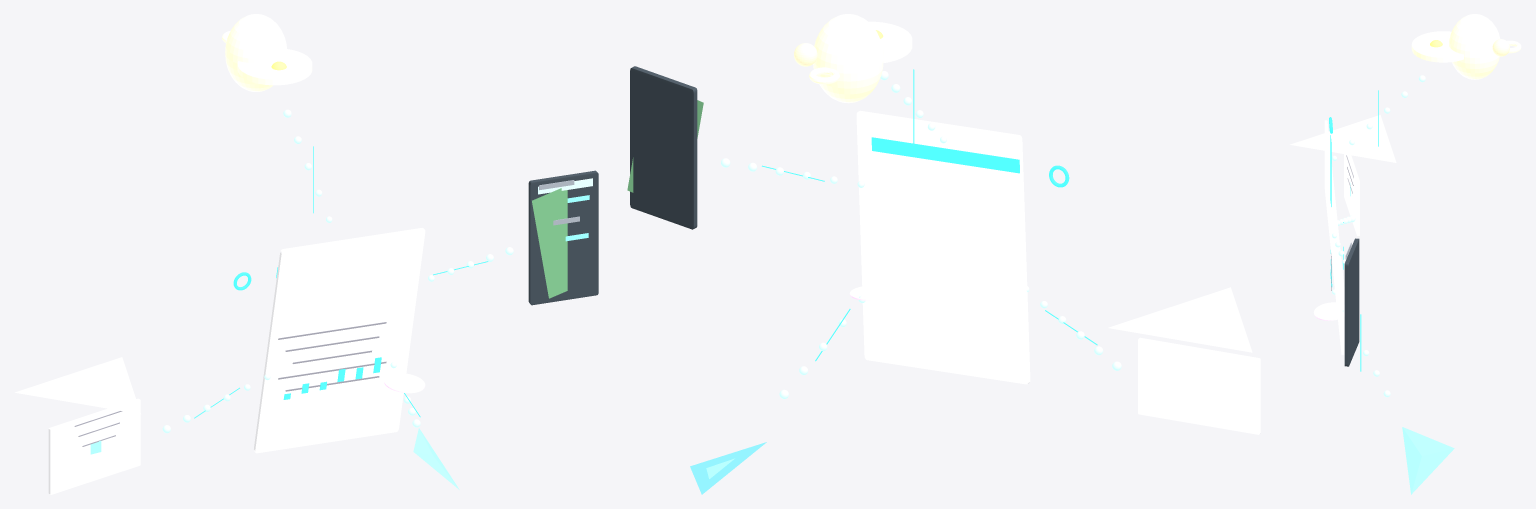
Rendered from data-report.glb.
3 views of the same model, side by side, from view 1: azimuth 30°, elevation 25°; view 2: azimuth 150°, elevation 25°; view 3: azimuth 270°, elevation 25° (orthographic). The views are drawn at different scales.
Visible parts, largest first — view 1: Report, Envelope, Phone, EnvFlap, BellBody, PhoneScreen, BellBase, TelegramPlane; view 2: Report, Phone, Envelope, BellBody, EnvFlap, ReportHeader, TelegramPlane, BellBase; view 3: BellBody, EnvFlap, Report, Phone, TelegramPlane, BellBase, Envelope, MiniPie.
Boxes of the visible parts, x1,y1,x2,y2 form: Report: [253, 228, 425, 453]; Envelope: [48, 398, 140, 494]; Phone: [528, 170, 598, 305]; EnvFlap: [15, 357, 140, 414]; BellBody: [225, 14, 287, 91]; PhoneScreen: [532, 188, 567, 298]; BellBase: [237, 49, 312, 85]; TelegramPlane: [413, 428, 459, 489]; Report: [856, 110, 1030, 384]; Phone: [630, 66, 697, 229]; Envelope: [1138, 337, 1260, 434]; BellBody: [813, 14, 883, 103]; EnvFlap: [1108, 287, 1252, 352]; ReportHeader: [871, 137, 1019, 173]; TelegramPlane: [690, 442, 766, 494]; BellBase: [868, 21, 912, 62]; BellBody: [1449, 14, 1500, 79]; EnvFlap: [1290, 115, 1396, 162]; Report: [1324, 120, 1344, 355]; Phone: [1344, 238, 1359, 366]; TelegramPlane: [1402, 427, 1454, 494]; BellBase: [1411, 31, 1463, 62]; Envelope: [1344, 154, 1359, 236]; MiniPie: [1313, 302, 1344, 320].
Bounding box in the file's own units: 3.14 × 2.58 × 1.32.
